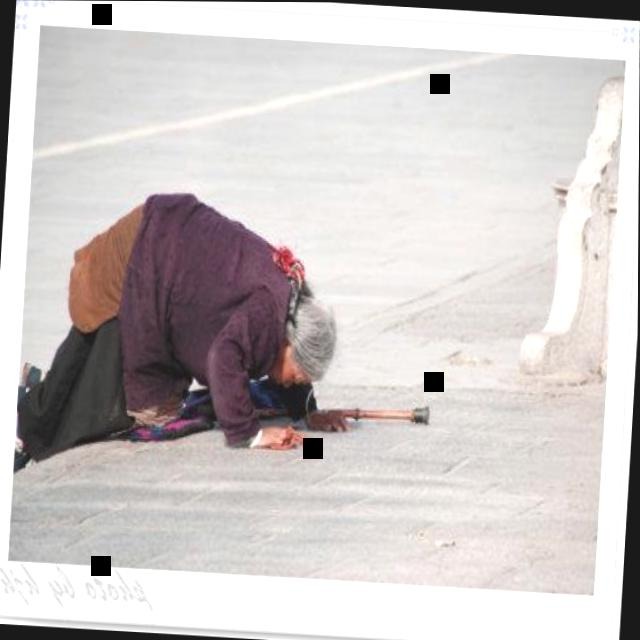Fall-Detected: (11, 184, 369, 498)
